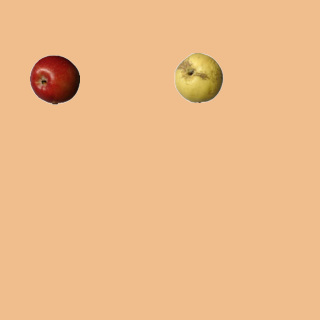Apple Braeburn: (29, 54, 79, 104)
Apple Golden 1: (173, 52, 223, 102)
